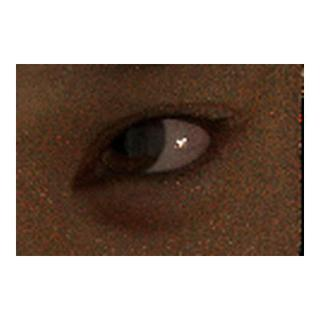pupil: (109, 119, 143, 153)
